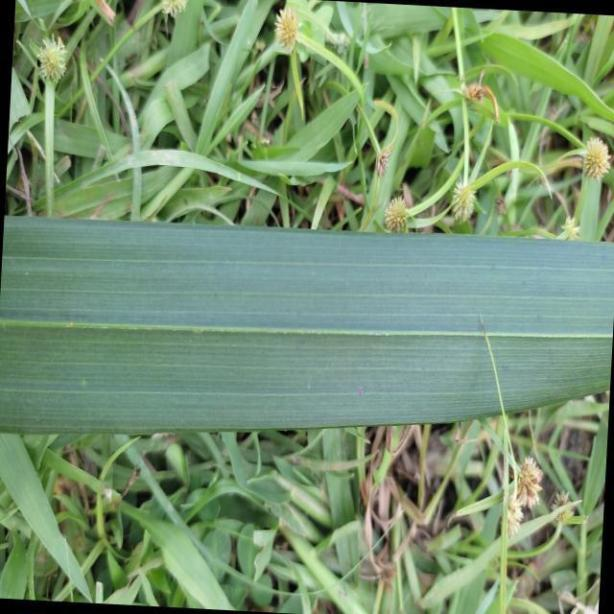Healthy: (0, 217, 614, 432)
